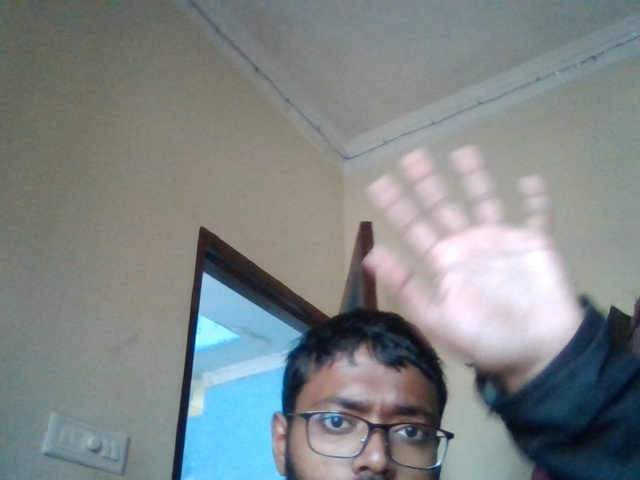Hello: (327, 141, 609, 366)
